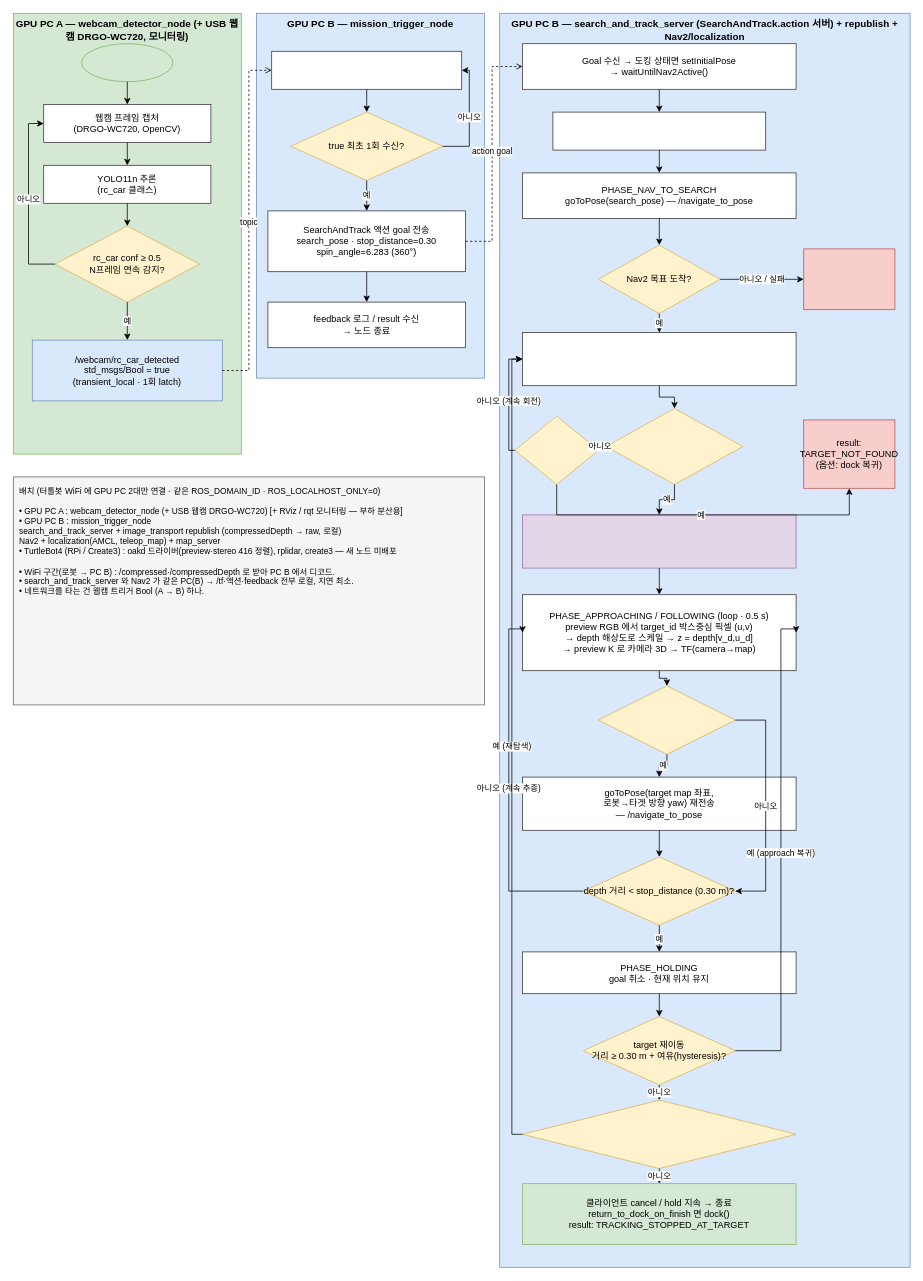
Image size: 923x1281. Some labels were removed from this diagram. Each missing label, with the centre of its shape:
"/webcam/rc_car_detected 구독 (transient_local)" goes at point 366,70.
"PHASE_SEARCHING spin(360°) — /spin + YOLO track(persist=True)" goes at point 659,359.
"PHASE_UNDOCKING navigator.undock() — /undock" goes at point 659,130.
"rc_car 최초 감지? (conf ≥ th, N프레임)" goes at point 674,446.
"result: NAV_FAILED (abort)" goes at point 849,279.
"spin 360° 완료?" goes at point 556,449.
"Start" goes at point 127,62.
"target track_id 고정 (최초 1회) spin 취소 · 이후 이 id만 추종 다른 RC카 · 더미박스 · 장애물 무시" goes at point 659,541.
"target 미검출 ≥ target_lost_timeout (5 s)? (APPROACH~HOLDING 공통 감시)" goes at point 659,1133.
"target 이동량 ≥ 0.25 m?" goes at point 666,719.
